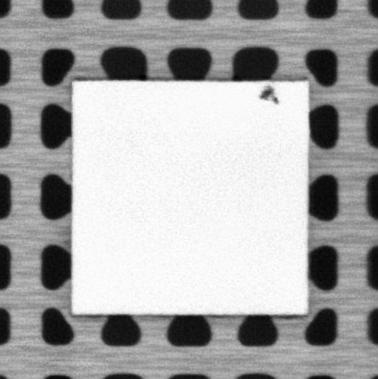DIE_INK: (257, 84, 281, 104)
